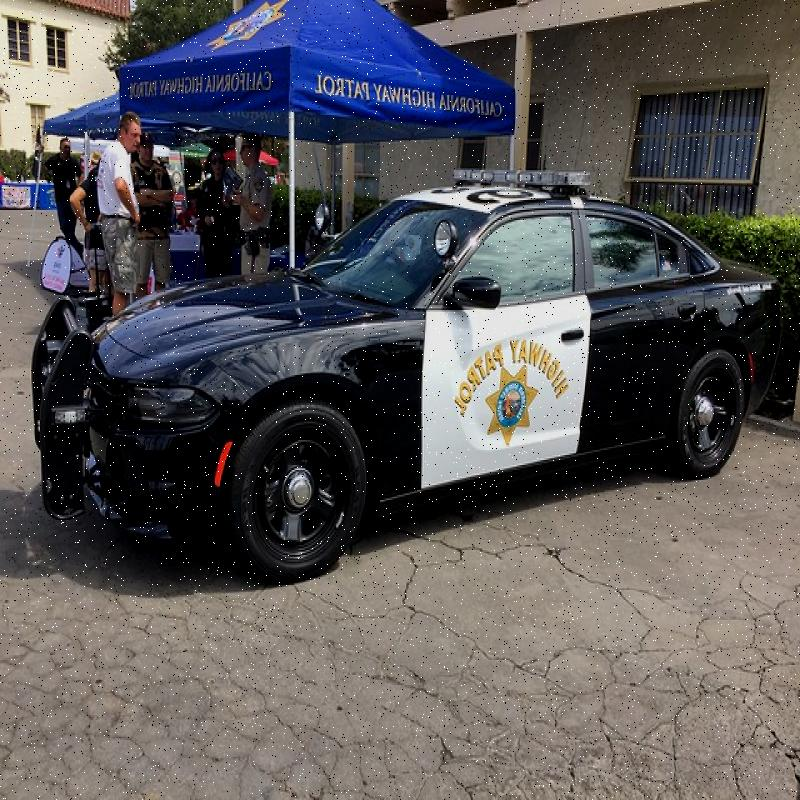AmbulanceSiren: (447, 162, 594, 192)
